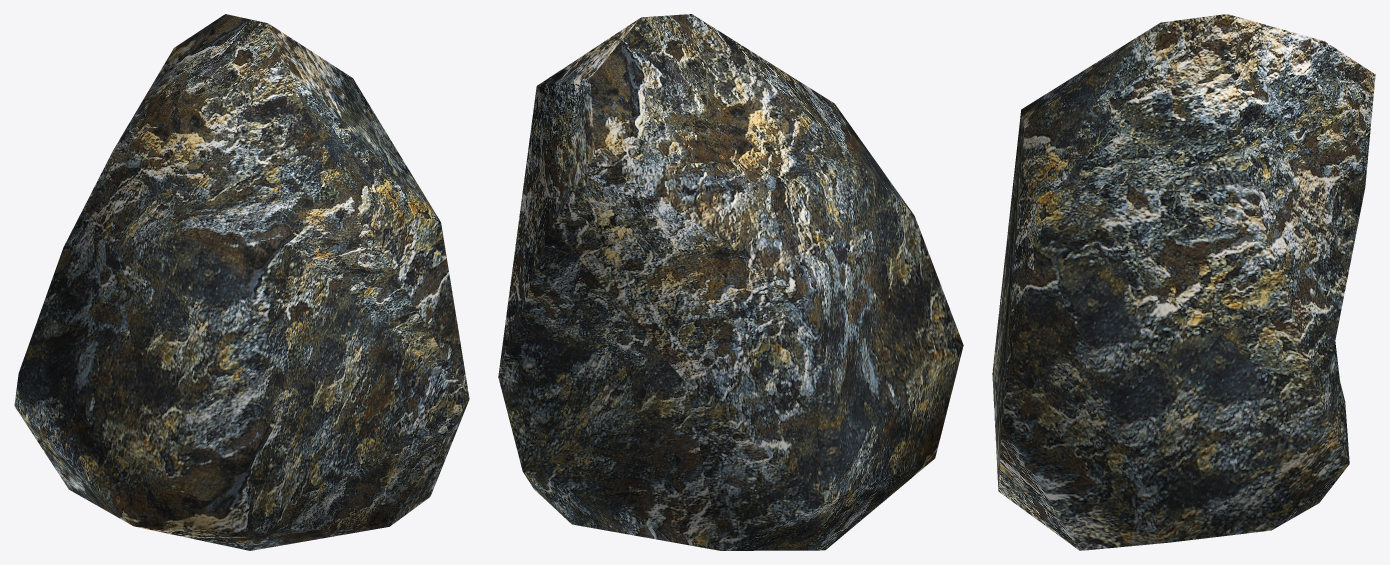
File: Rock.fbx
The picture shows the model from 3 angles, left to right: view 1: azimuth 30°, elevation 25°; view 2: azimuth 150°, elevation 25°; view 3: azimuth 270°, elevation 25°; orthographic projection. The views are drawn at different scales.
Parts seen in each view (by area): view 1: Cube; view 2: Cube; view 3: Cube.
Boxes of the visible parts, x1,y1,x2,y2 form: Cube: (14, 14, 469, 550); Cube: (498, 14, 963, 550); Cube: (992, 14, 1375, 550).
Bounding box in the file's own units: 618 × 795 × 568.
Materials: 1 (1 with a texture image).
